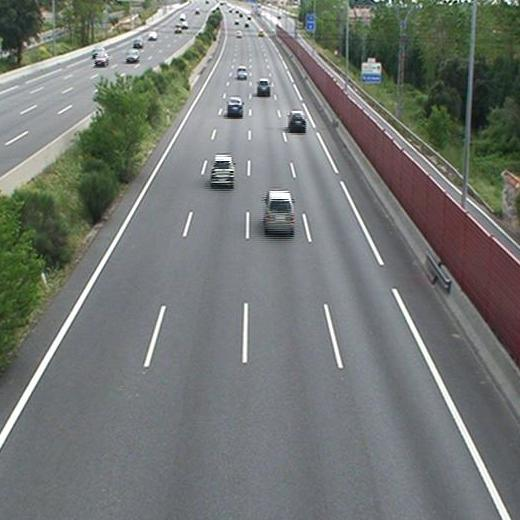car: (265, 191, 294, 230), (211, 156, 234, 183), (290, 112, 307, 128), (227, 98, 243, 113), (257, 80, 270, 94), (236, 67, 247, 79)
